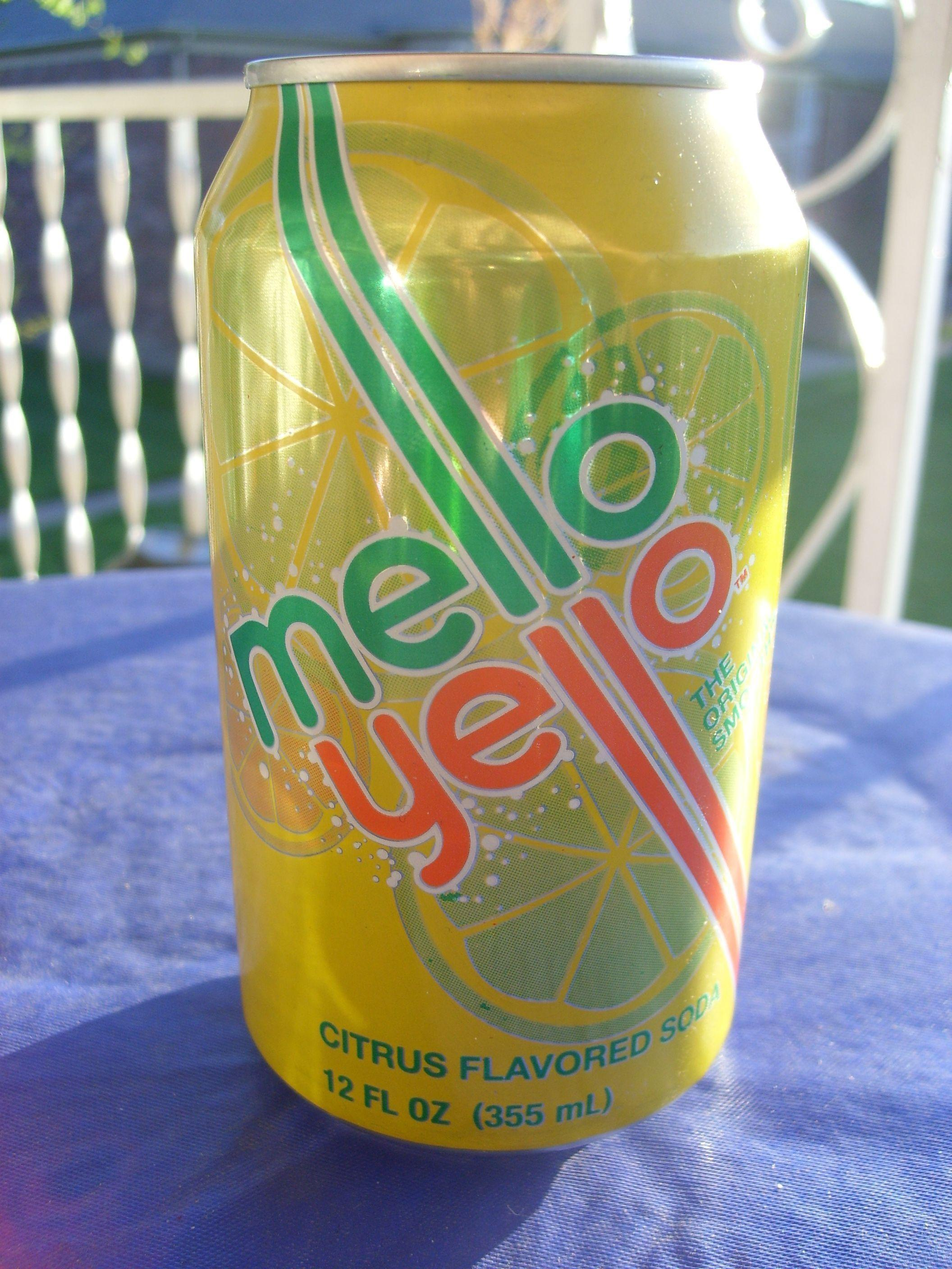tin can: (185, 34, 807, 1189)
